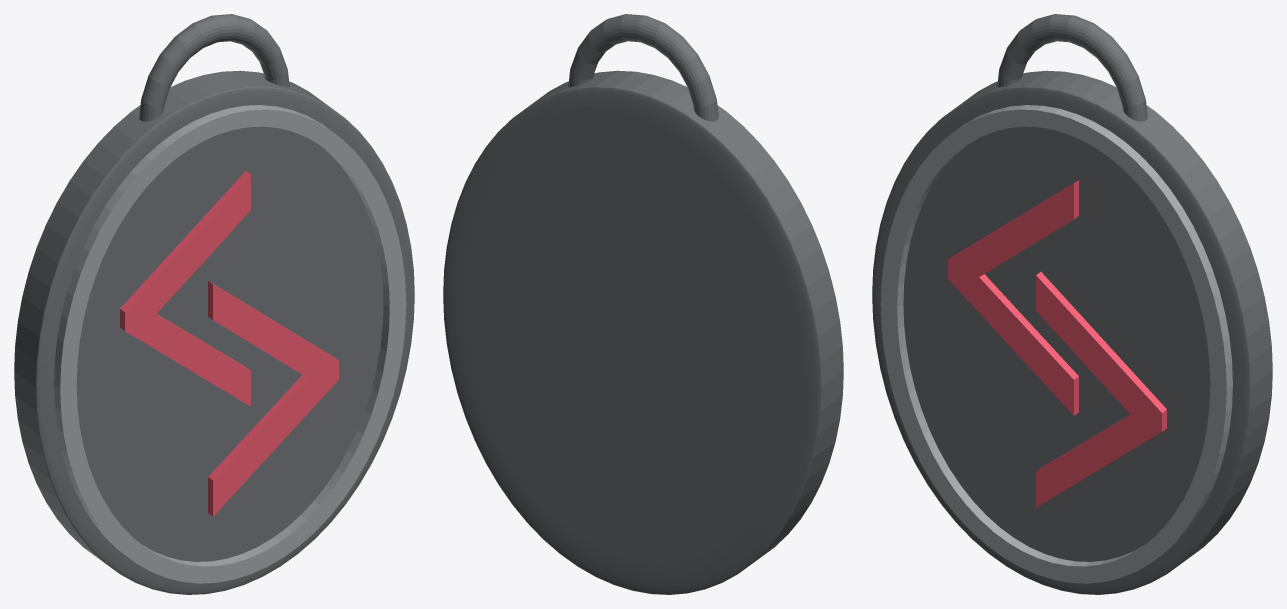
The model's file is DOT_tag.glb.
3 renders of one model, left to right at view 1: azimuth 30°, elevation 25°; view 2: azimuth 150°, elevation 25°; view 3: azimuth 330°, elevation 25°, orthographic.
Parts seen in each view (by area): view 1: obj_0; view 2: obj_0; view 3: obj_0.
Part boxes in pixels (box(x1,y1,x2,y2)): obj_0: box(14, 14, 414, 594); obj_0: box(443, 14, 843, 594); obj_0: box(872, 14, 1272, 594).
Bounding box in the file's own units: 35 × 50 × 5.
